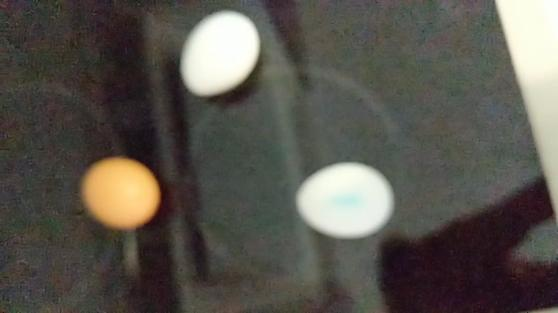egg: (296, 161, 396, 237), (178, 9, 260, 96), (80, 153, 162, 229)
